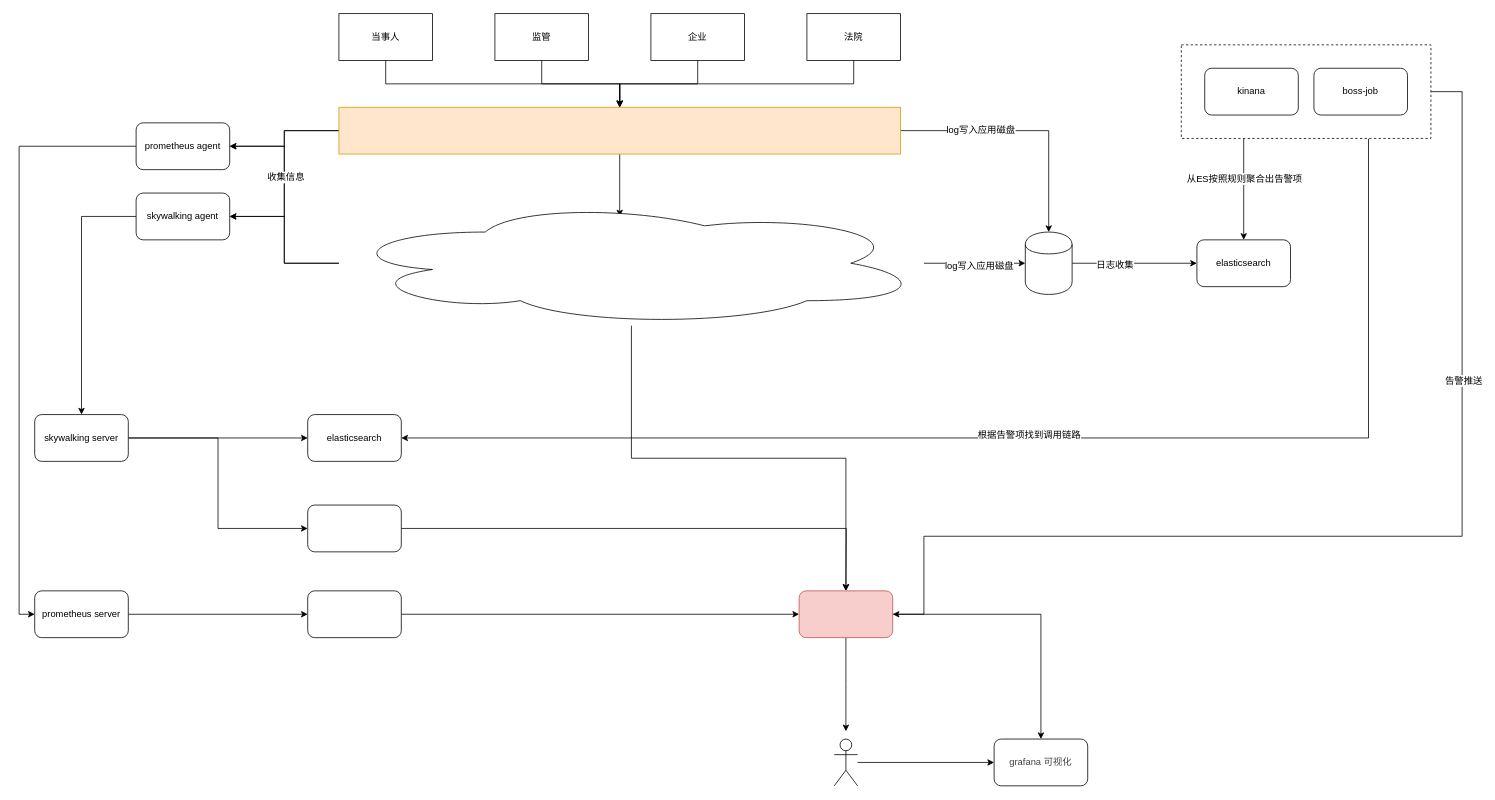
Some shapes in this 1495 by 800 pixel diagram are drawn without their labels. The box of each missing label's shape, as (x1, y1, x2, y2) in pixels:
alartmanager: (307, 590, 401, 638)
API 网关: (338, 106, 901, 154)
告警中心: (798, 590, 893, 638)
告警模块: (307, 504, 401, 552)
微服务: (338, 200, 924, 326)
磁盘: (1025, 231, 1072, 294)
